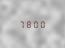eight: (25, 20, 31, 28)
seven: (18, 20, 24, 28)
zero: (32, 20, 38, 28), (39, 20, 45, 28)
